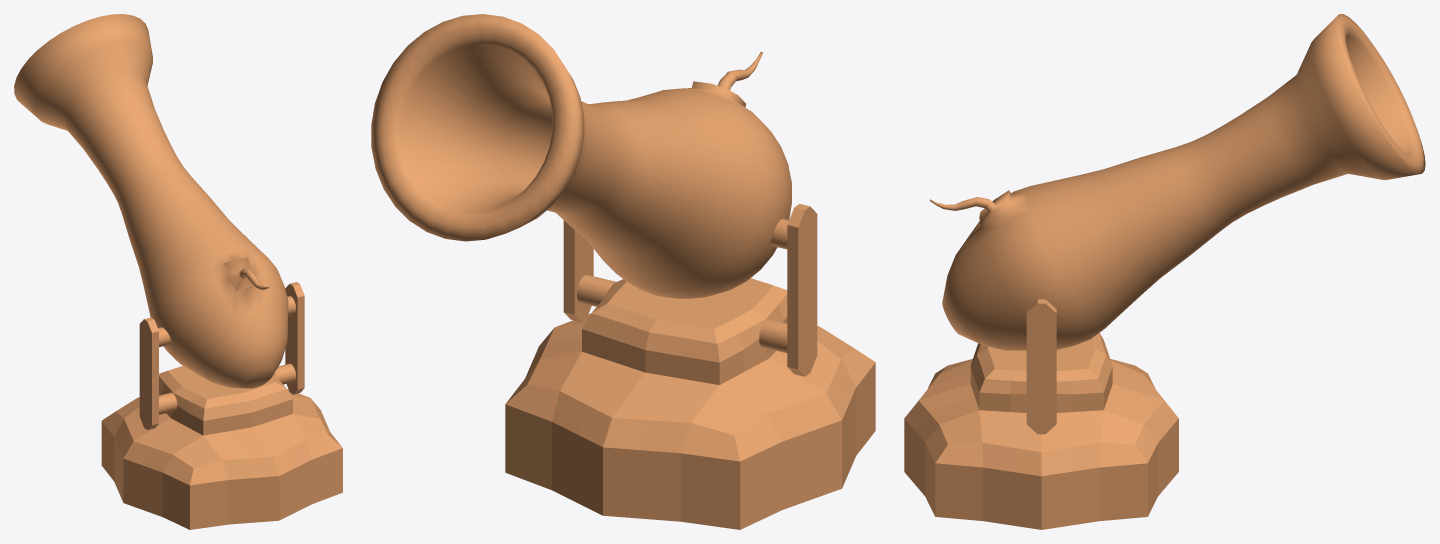
The model's file is Cannon.fbx.
3 renders of one model, left to right at view 1: azimuth 30°, elevation 25°; view 2: azimuth 150°, elevation 25°; view 3: azimuth 270°, elevation 25°, orthographic. The views are drawn at different scales.
Visible parts, largest first — view 1: Cannon, Cannon_Mechanism; view 2: Cannon_Mechanism, Cannon; view 3: Cannon, Cannon_Mechanism.
Boxes of the visible parts, box(x1,y1,x2,y2) form: Cannon: box(14, 14, 288, 388); Cannon_Mechanism: box(101, 282, 342, 529); Cannon_Mechanism: box(505, 203, 875, 529); Cannon: box(371, 14, 791, 298); Cannon: box(930, 14, 1425, 350); Cannon_Mechanism: box(904, 299, 1178, 529).
Size of the model in its own units: 174 by 313 by 330.
